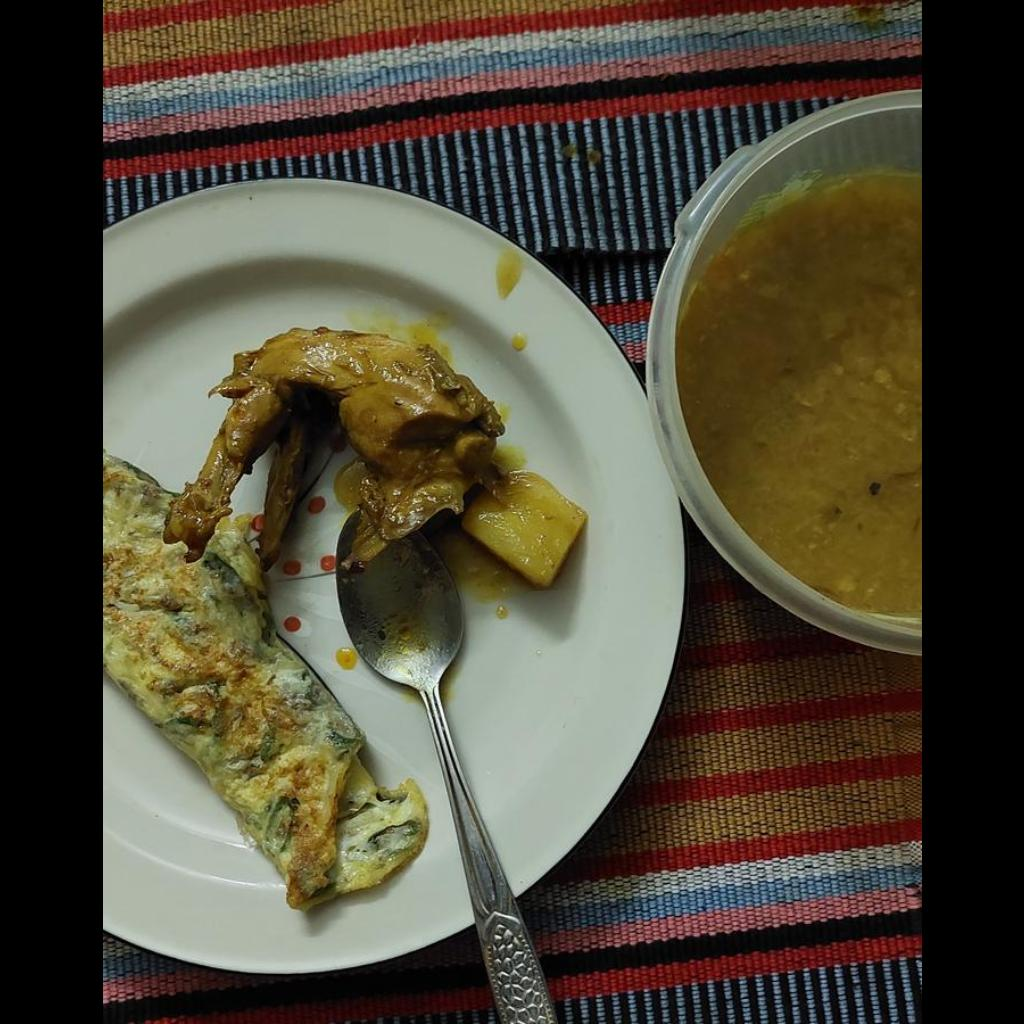chicken: (158, 335, 504, 578)
daal: (676, 172, 920, 616)
egg-poached: (102, 453, 430, 914)
potato: (460, 471, 586, 587)
